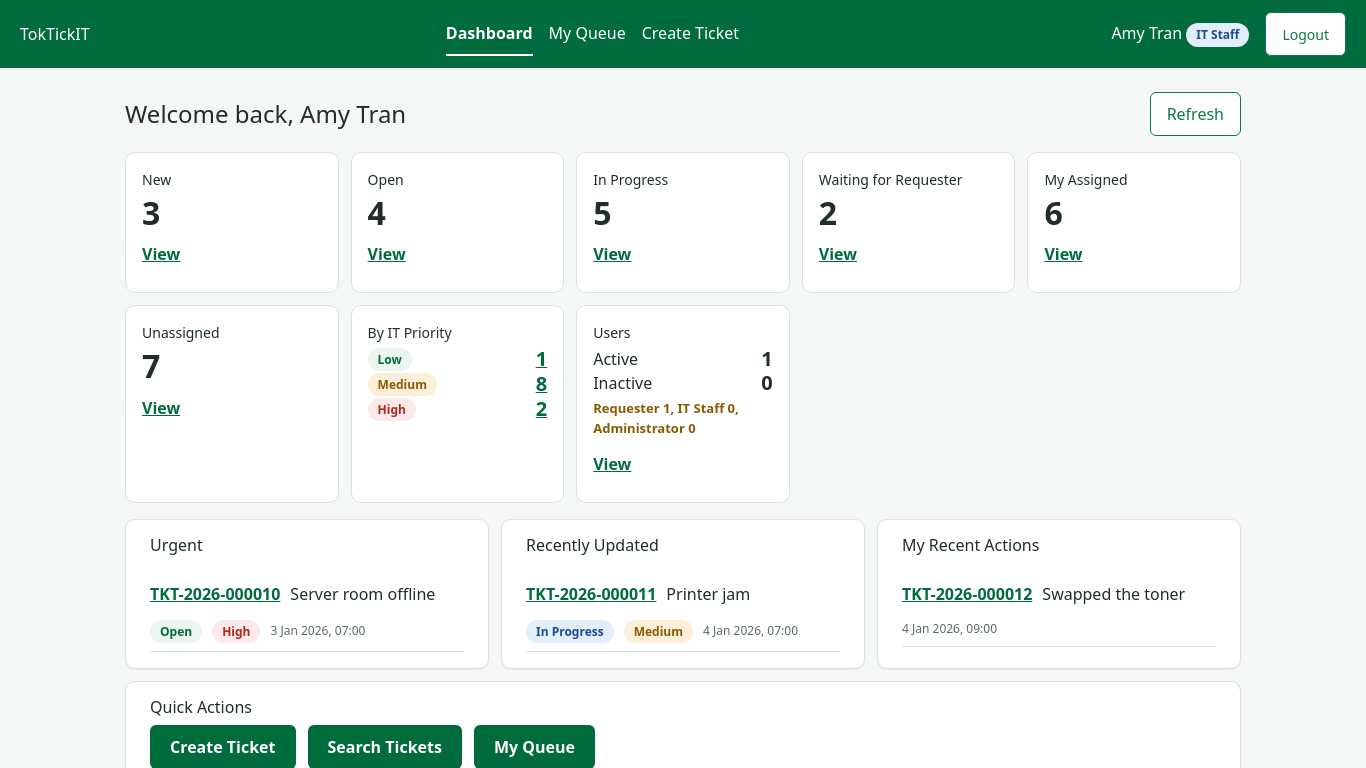
Test: Accessibility (A11Y-01) › marks only the active nav item with aria-current=page
Expected: the heading "Welcome back, Amy Tran" is shown, [125, 100, 406, 128]
What coordinates should you click on to do the following:
click the link "My Queue" next to "Dashboard"
I would click on:
 (587, 33)
Its box is [549, 22, 626, 44].
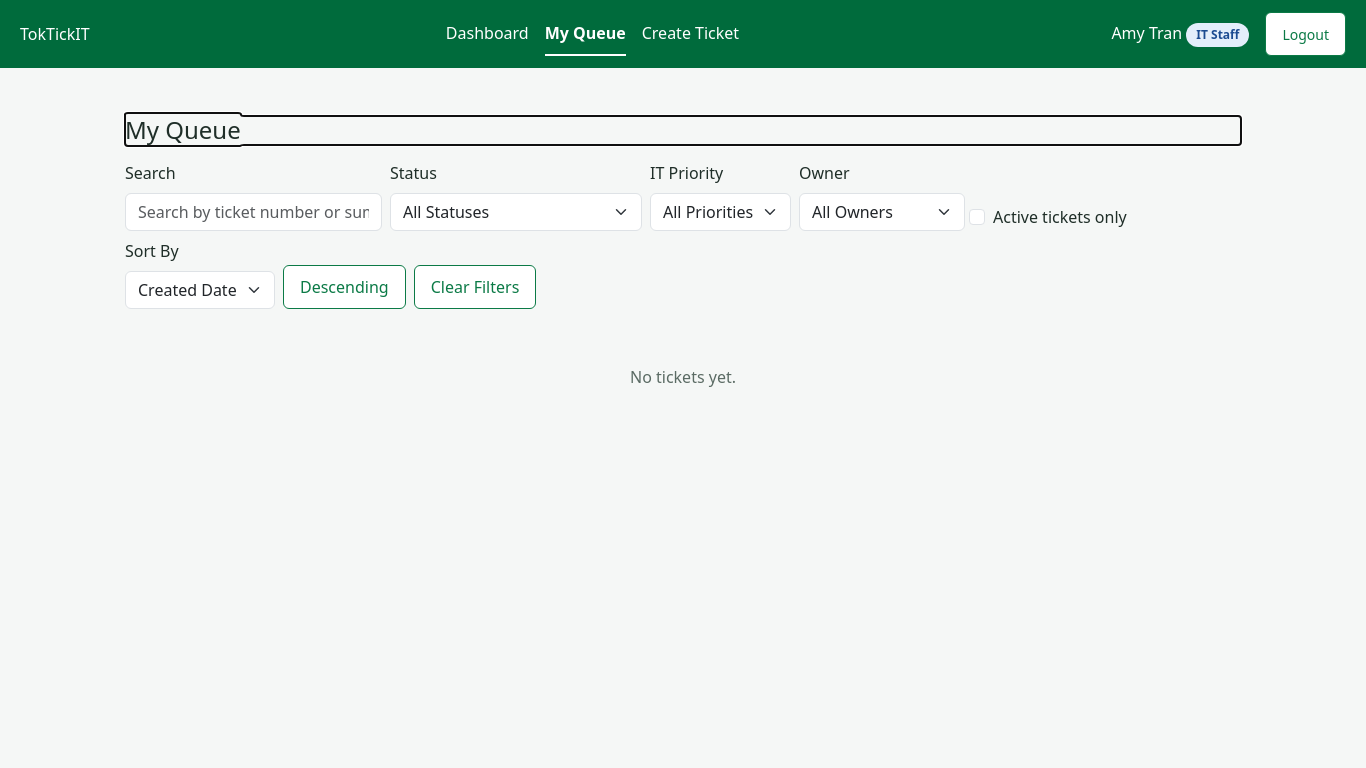
Now the heading "My Queue" is shown, box [125, 113, 241, 146]
